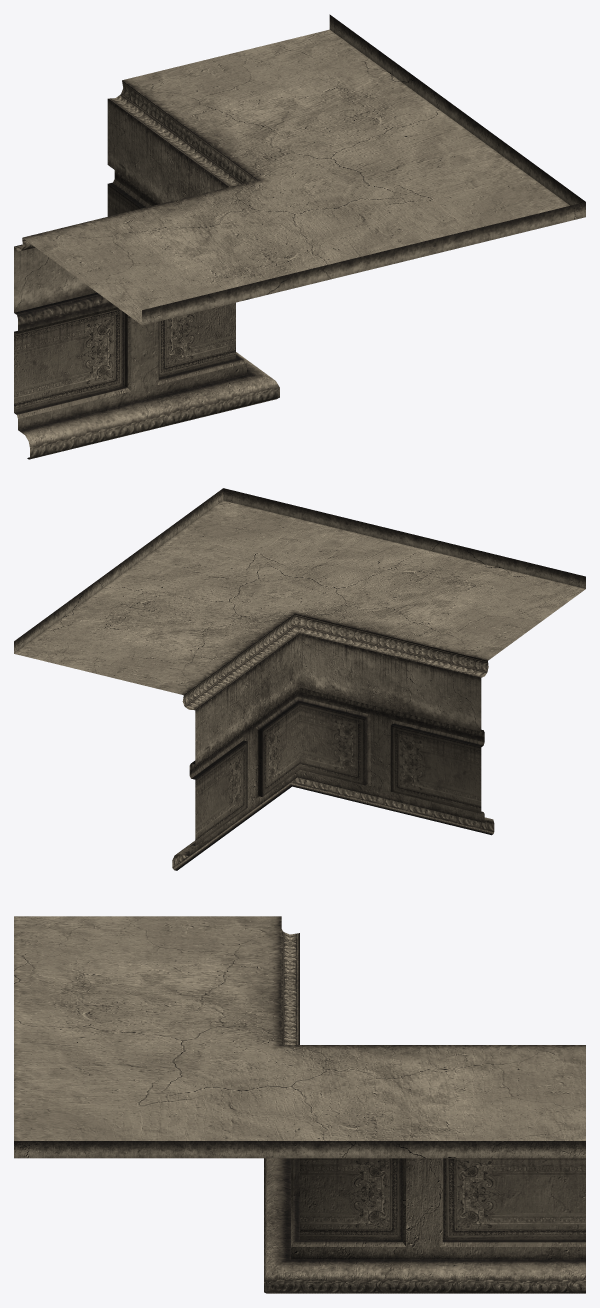
File: corner_convex01_short.dae
3 views of the same model, one above another, from view 1: azimuth 30°, elevation 25°; view 2: azimuth 150°, elevation 25°; view 3: azimuth 270°, elevation 25° (orthographic). The views are drawn at different scales.
Parts seen in each view (by area): view 1: corner_convex_short; view 2: corner_convex_short; view 3: corner_convex_short.
Part boxes in pixels (x1,y1,x2,y2): corner_convex_short: (14,14,585,459); corner_convex_short: (14,488,585,870); corner_convex_short: (14,916,585,1293).
Bounding box in the file's own units: 4 × 2 × 4.
Materials: 1 (1 with a texture image).
